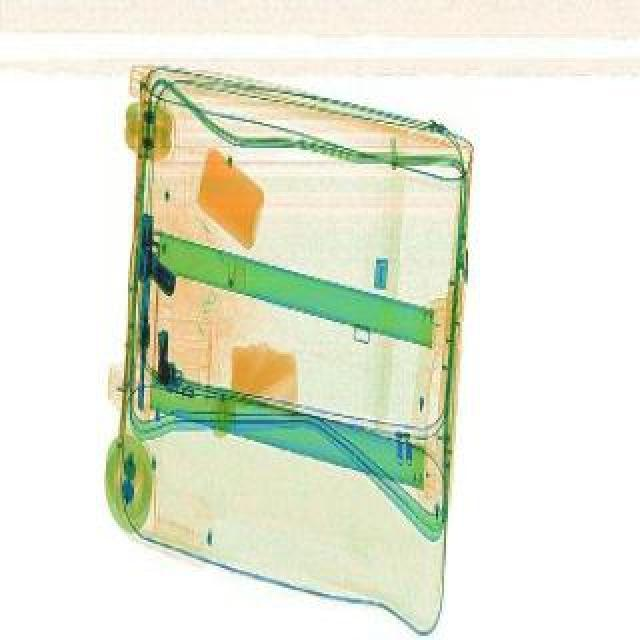gun: (128, 280, 158, 420), (130, 214, 174, 298), (150, 332, 194, 400)
